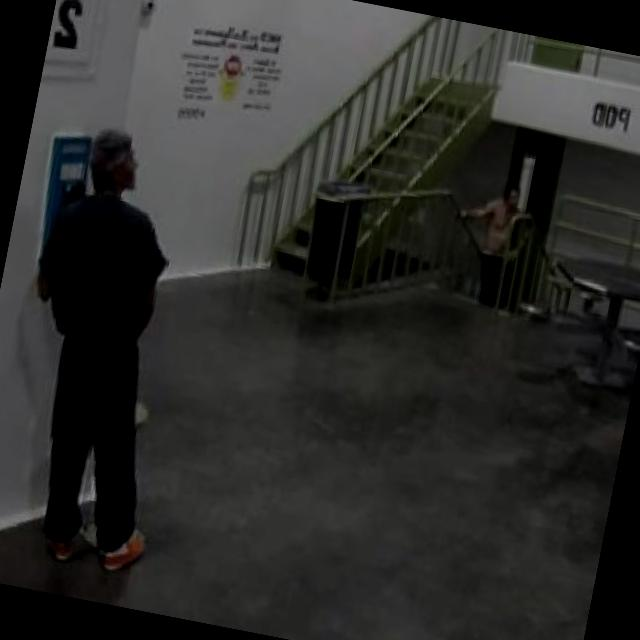Person: (0, 109, 244, 587), (466, 167, 536, 311)
